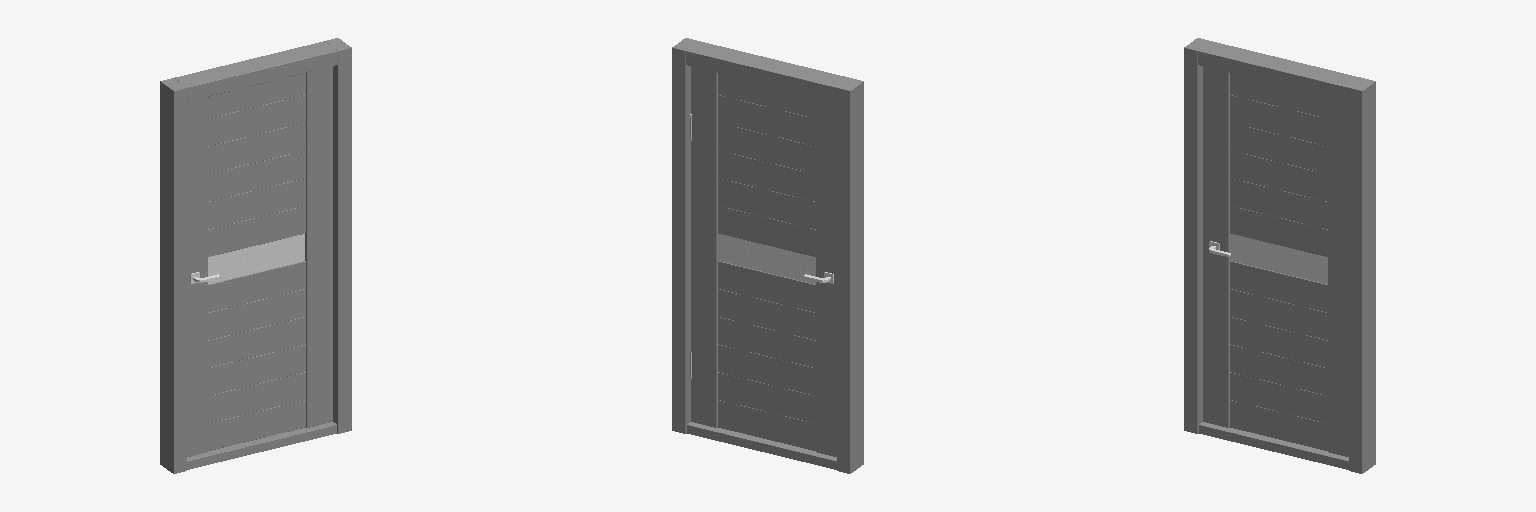
3 views of the same model, side by side, from view 1: azimuth 30°, elevation 25°; view 2: azimuth 150°, elevation 25°; view 3: azimuth 330°, elevation 25° (orthographic).
Bounding box in the file's own units: 1.06 × 2.18 × 0.161.
Materials: 3 (1 with a texture image).